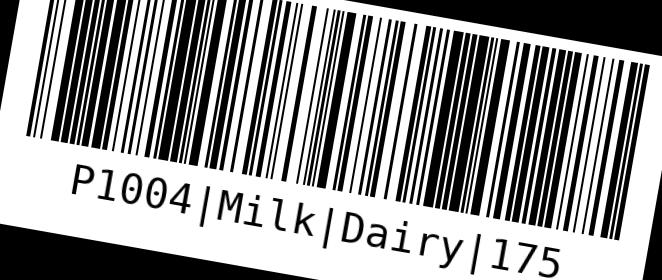milk: (26, 0, 652, 241)
